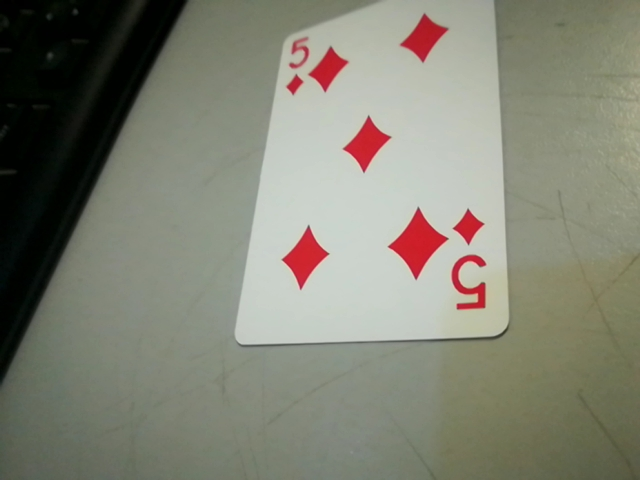fk 5: (440, 201, 503, 322)
